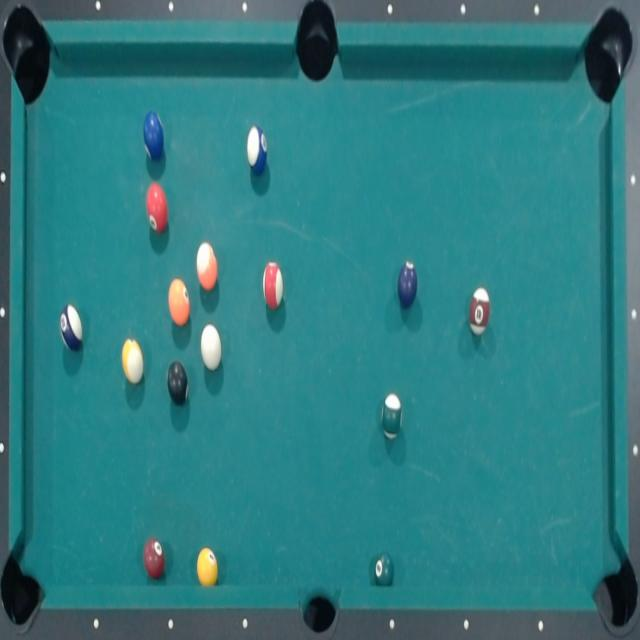black_8ball: (166, 358, 191, 408)
blue_solid: (141, 107, 167, 163)
blue_stripe: (244, 122, 270, 178)
cue_ball: (198, 320, 226, 375)
green_solid: (371, 550, 398, 589)
green_stripe: (380, 391, 405, 448)
maroon_solid: (141, 535, 170, 581)
maroon_stripe: (466, 285, 494, 342)
orange_solid: (166, 276, 194, 330)
orange_stripe: (194, 235, 221, 295)
playr: (396, 256, 420, 310)
purple_solid: (57, 298, 87, 356)
purple_stripe: (144, 179, 172, 239)
red_solid: (262, 256, 286, 312)
red_stripe: (192, 541, 223, 587)
yellow_solid: (119, 333, 146, 388)
